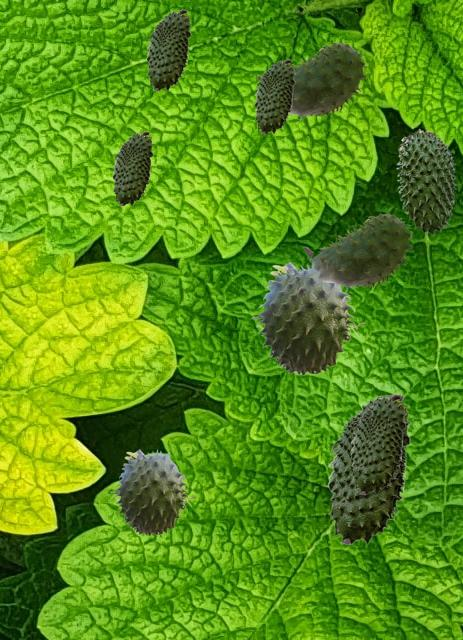guyabano: (251, 261, 364, 375), (327, 393, 410, 544), (257, 42, 366, 120), (303, 213, 412, 291), (110, 448, 195, 535), (396, 128, 456, 234), (350, 394, 405, 494), (146, 9, 190, 90), (112, 131, 152, 205), (254, 59, 294, 133)
